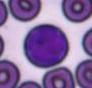L: (23, 24, 68, 68)
